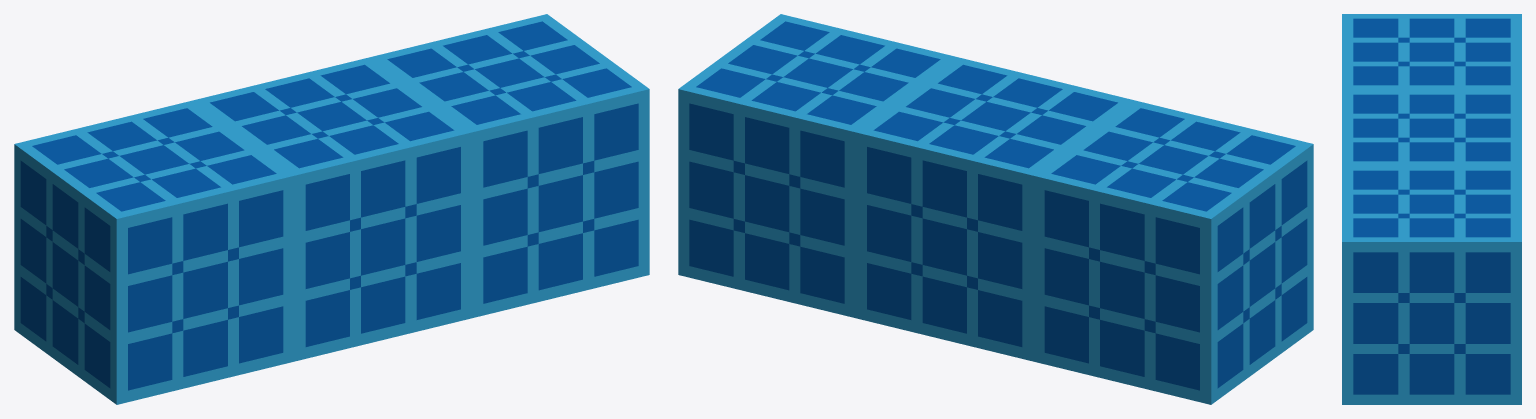
File: CyberTiles - Blue 3x1.fbx
3 renders of one model, left to right at view 1: azimuth 30°, elevation 25°; view 2: azimuth 150°, elevation 25°; view 3: azimuth 270°, elevation 25°, orthographic. The views are drawn at different scales.
Visible parts, largest first — view 1: cyber_tiles - blue 3x1; view 2: cyber_tiles - blue 3x1; view 3: cyber_tiles - blue 3x1.
Part boxes in pixels (x1,y1,x2,y2): cyber_tiles - blue 3x1: [14, 14, 649, 404]; cyber_tiles - blue 3x1: [678, 14, 1313, 404]; cyber_tiles - blue 3x1: [1342, 14, 1521, 404].
Bounding box in the file's own units: 4.8 × 1.6 × 1.6.
1 material, 1 textured.
